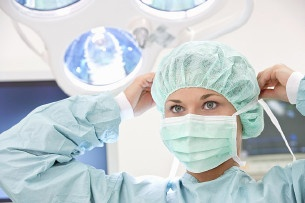Mask: (160, 92, 240, 172)
